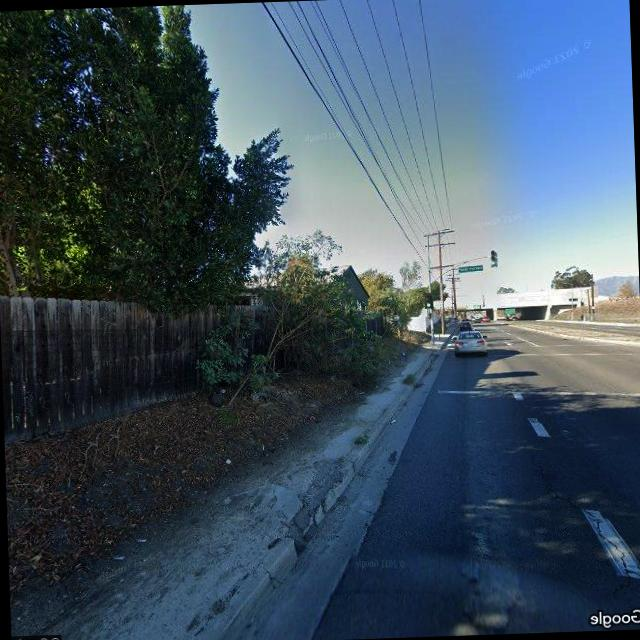pothole: (532, 444, 630, 598)
